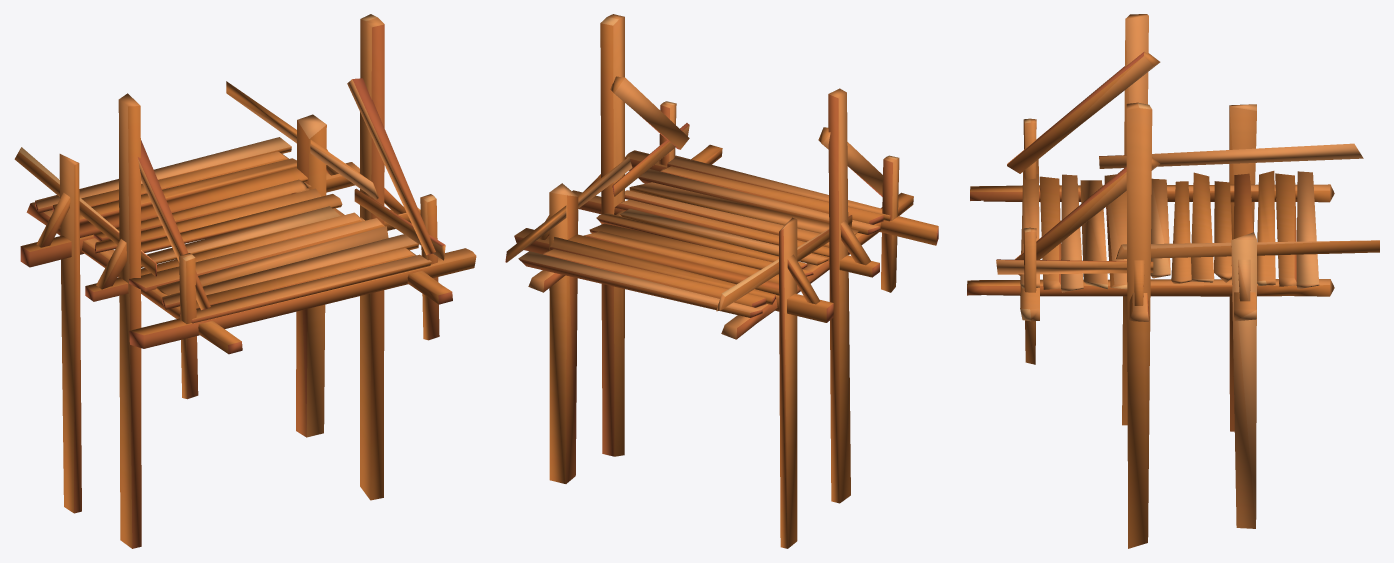
The model's file is GL-Manmade-06.fbx.
The picture shows the model from 3 angles, left to right: view 1: azimuth 30°, elevation 25°; view 2: azimuth 150°, elevation 25°; view 3: azimuth 270°, elevation 25°; orthographic projection. The views are drawn at different scales.
Visible parts, largest first — view 1: GL-Manmade-06; view 2: GL-Manmade-06; view 3: GL-Manmade-06.
Part boxes in pixels (x1,y1,x2,y2): GL-Manmade-06: [14, 14, 476, 548]; GL-Manmade-06: [505, 14, 938, 548]; GL-Manmade-06: [967, 14, 1379, 548].
Size of the model in its own units: 1.25 by 1.65 by 1.4.
